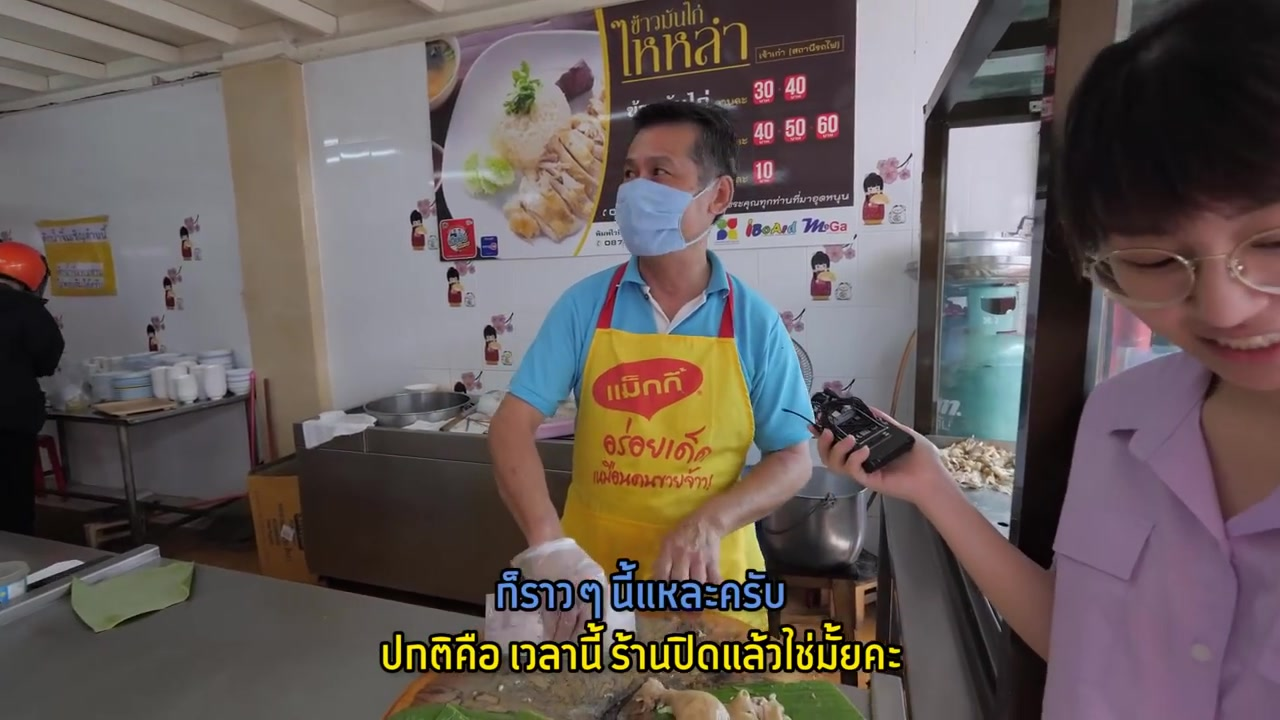text-label: (378, 621, 907, 674), (489, 555, 787, 621)
